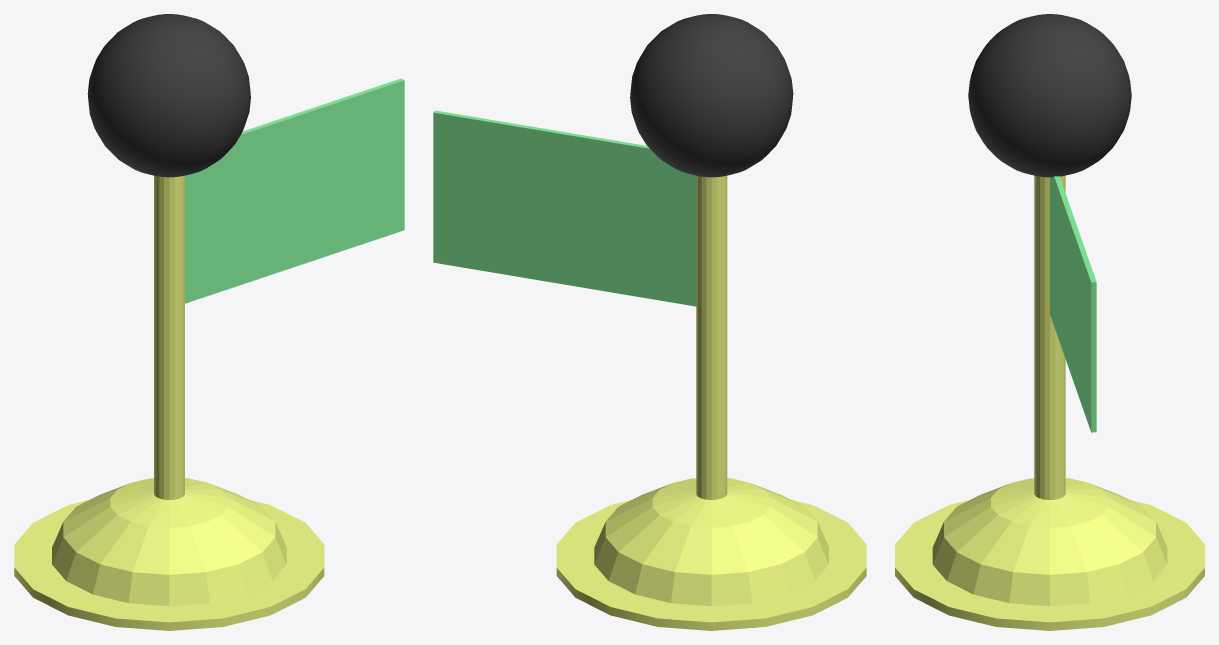
File: Flag.FBX
3 renders of one model, left to right at view 1: azimuth 30°, elevation 25°; view 2: azimuth 150°, elevation 25°; view 3: azimuth 270°, elevation 25°, orthographic.
Parts seen in each view (by area): view 1: Cylinder001, Sphere001; view 2: Cylinder001, Sphere001; view 3: Cylinder001, Sphere001.
Boxes of the visible parts, x1,y1,x2,y2 form: Cylinder001: (14,78,404,630); Sphere001: (87,14,250,177); Cylinder001: (433,110,866,630); Sphere001: (630,14,793,177); Cylinder001: (895,175,1204,630); Sphere001: (968,14,1131,177).
Size of the model in its own units: 175 by 120 by 232.
3 materials, 3 textured.
